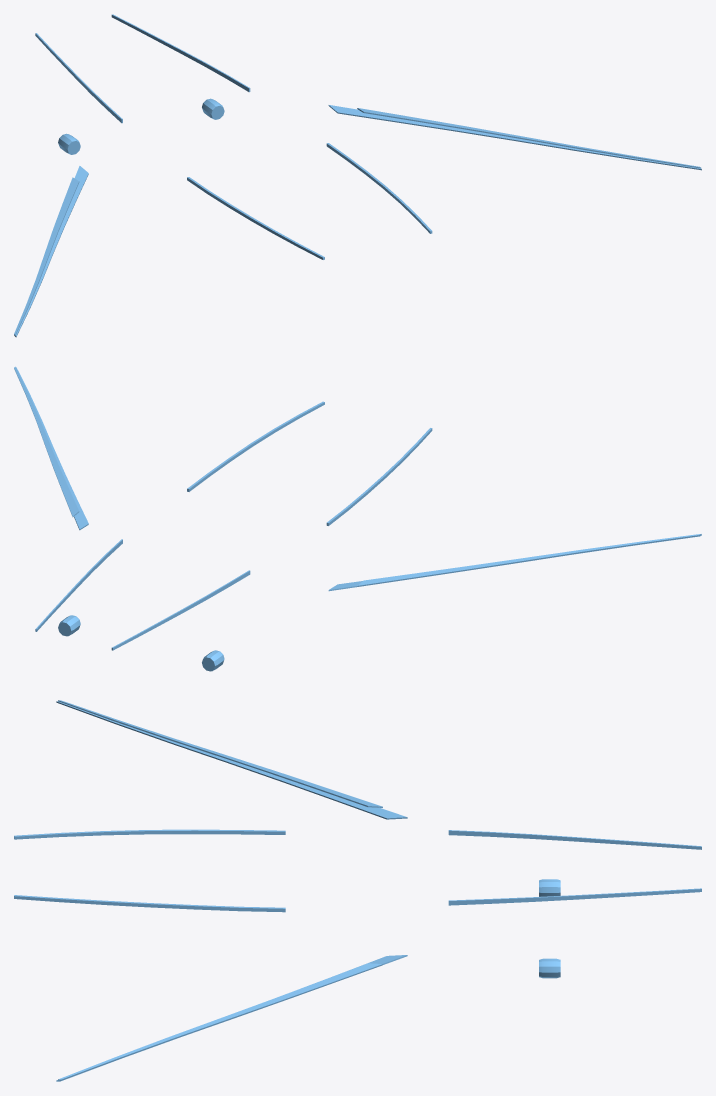
File: BrilloAzul.fbx
3 views of the same model, one above another, from view 1: azimuth 30°, elevation 25°; view 2: azimuth 150°, elevation 25°; view 3: azimuth 270°, elevation 25° (orthographic). The views are drawn at different scales.
Parts seen in each view (by area): view 1: BrilloAzul; view 2: BrilloAzul; view 3: BrilloAzul.
Part boxes in pixels (x1,y1,x2,y2): BrilloAzul: (14, 14, 701, 337); BrilloAzul: (14, 366, 701, 671); BrilloAzul: (14, 700, 701, 1081).
Bounding box in the file's own units: 2480 × 218 × 1901.
